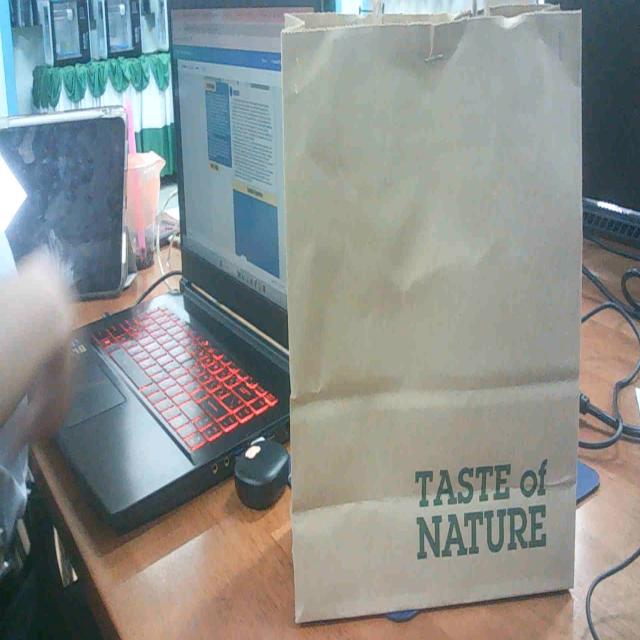bag: (250, 0, 580, 640)
